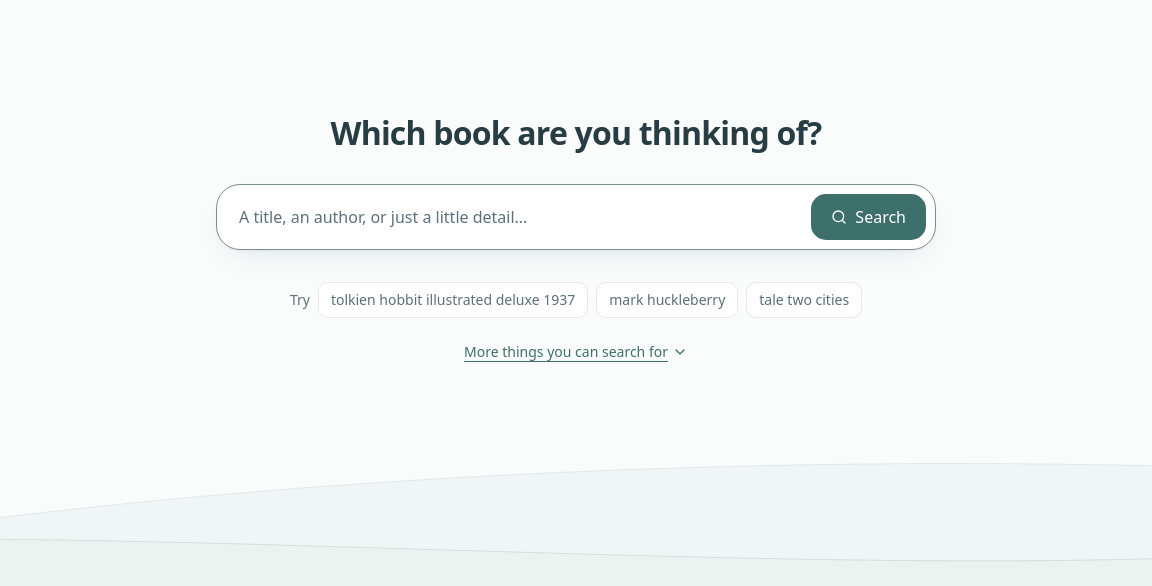
Test: keeps the longer catalog closed, then fills from a chip without searching
Expected: the heading "Just a title" is not shown
Click the button "More things you can search for" at (576, 352), box [455,334,697,370]
(page scrolled)
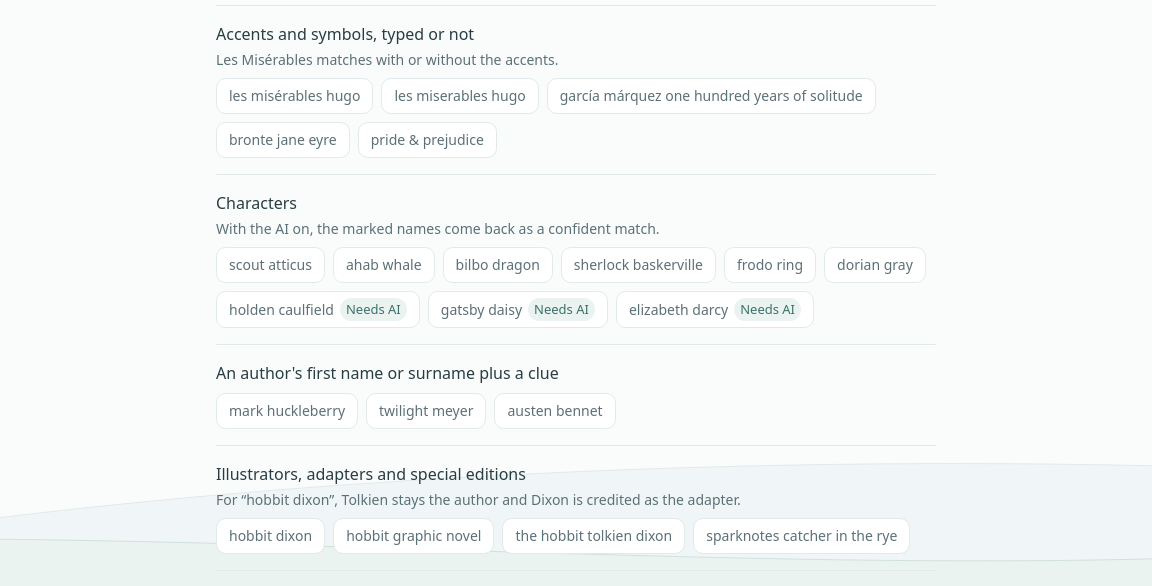
Now the button with aria-label "holden caulfield, Needs AI" shows "Needs AI"
Click the button with aria-label "holden caulfield, Needs AI" at (318, 310), box [216,291,420,328]
(page scrolled)
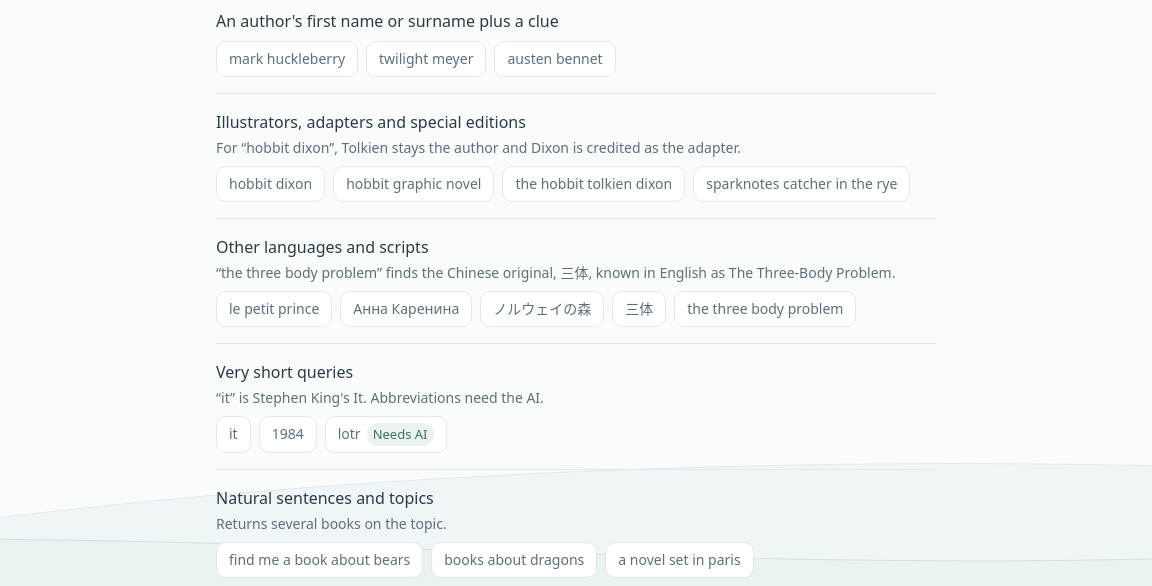
Click the button "三体" at (639, 309), box [612,291,666,327]
(page scrolled)
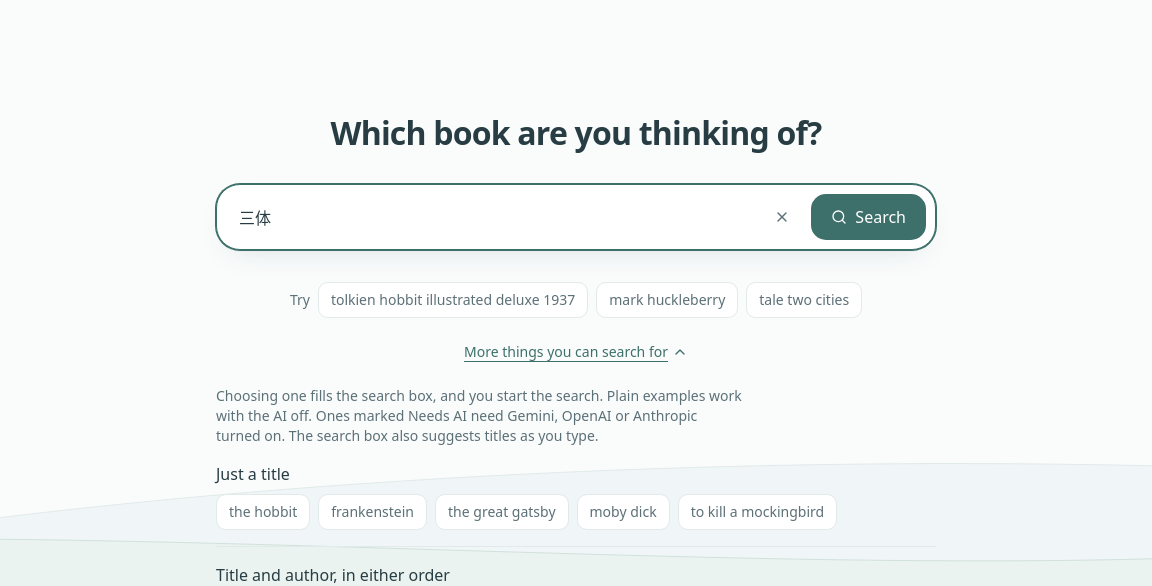
Now the dropdown named "Describe the book" holds "三体", box [233,193,754,241]
